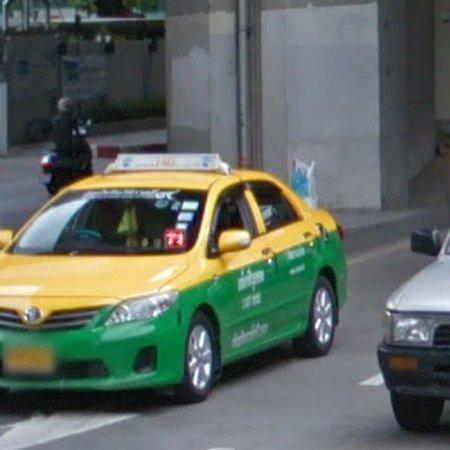taxis: (0, 154, 348, 400)
